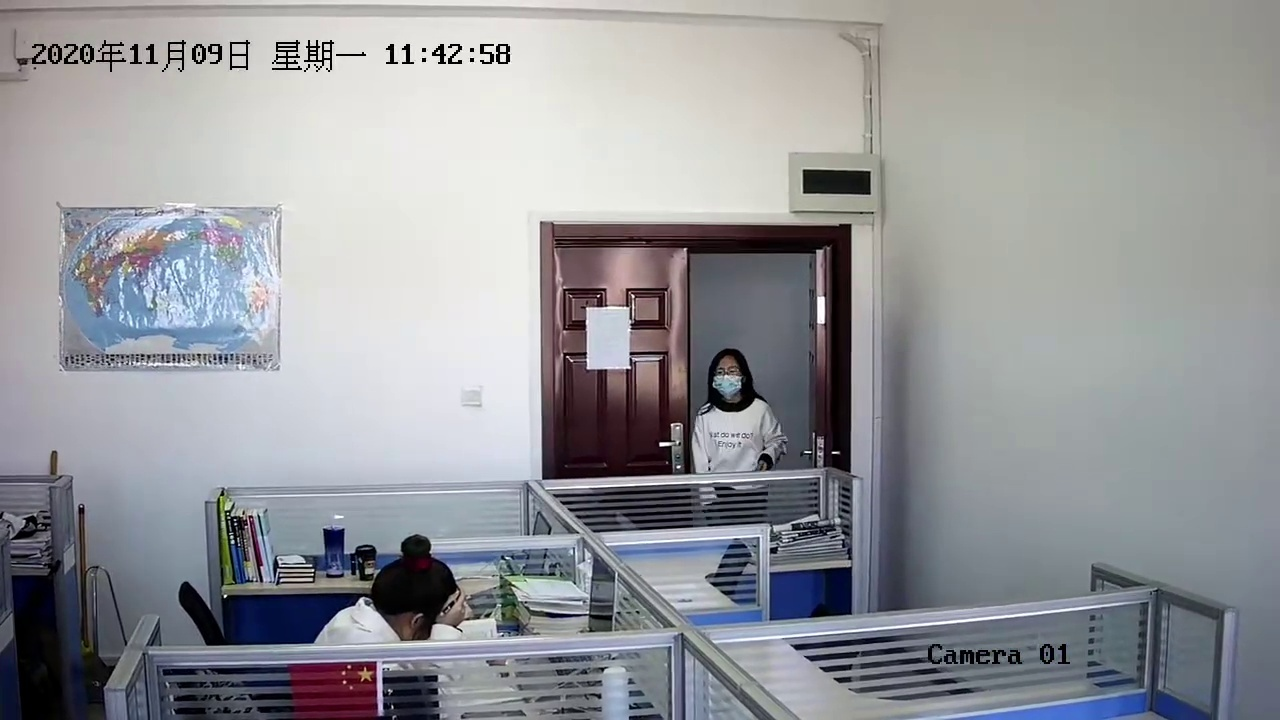mask: (705, 348, 749, 403)
